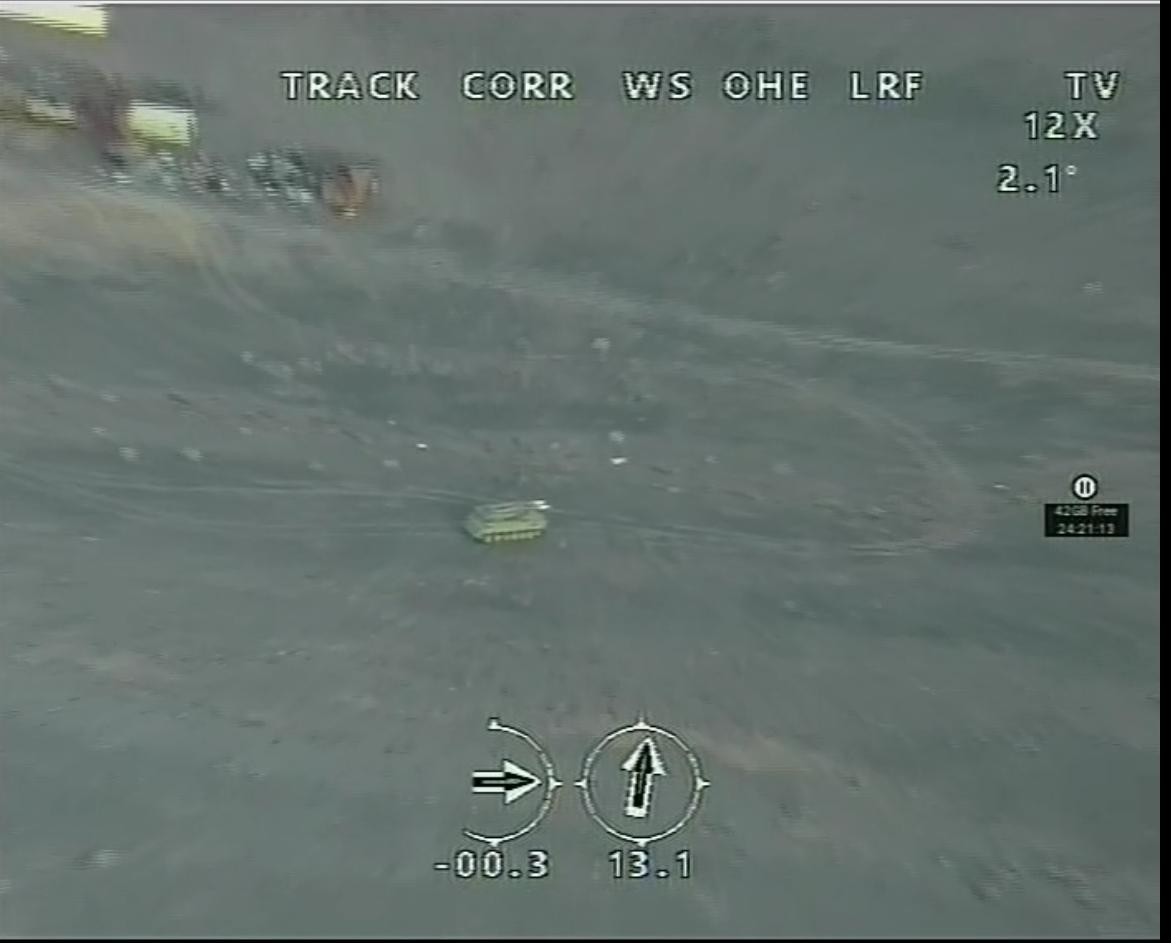armored_car: (460, 497, 558, 548)
